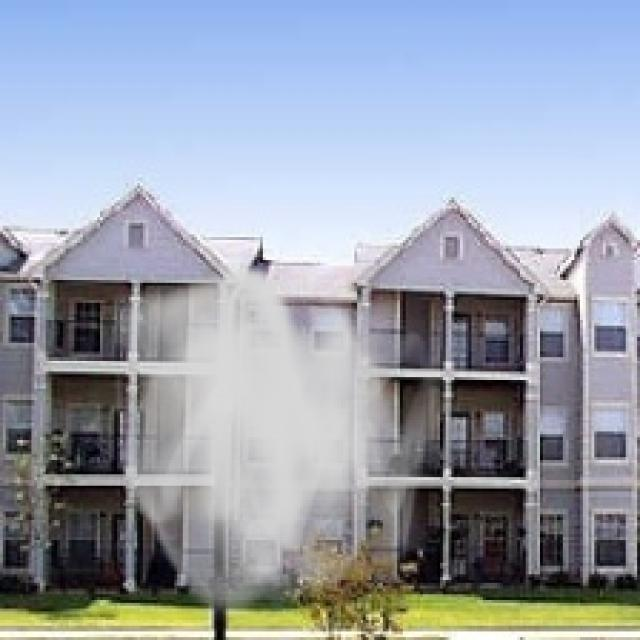smoke: (103, 260, 454, 626)
